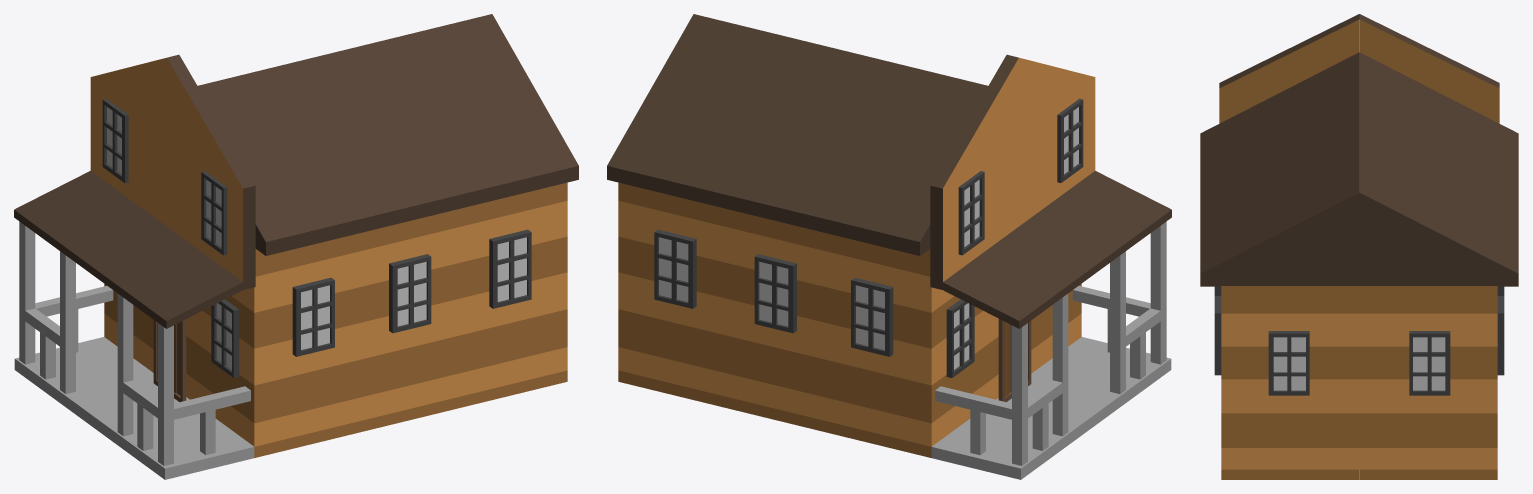
Rendered from House.fbx.
3 renders of one model, left to right at view 1: azimuth 30°, elevation 25°; view 2: azimuth 150°, elevation 25°; view 3: azimuth 270°, elevation 25°, orthographic. The views are drawn at different scales.
Visible parts, largest first — view 1: building; view 2: building; view 3: building.
Boxes of the visible parts, bbox=[...] form: building: bbox=[14, 14, 578, 479]; building: bbox=[607, 14, 1171, 479]; building: bbox=[1200, 14, 1518, 479].
Bounding box in the file's own units: 20.22 × 16.49 × 14.86.
